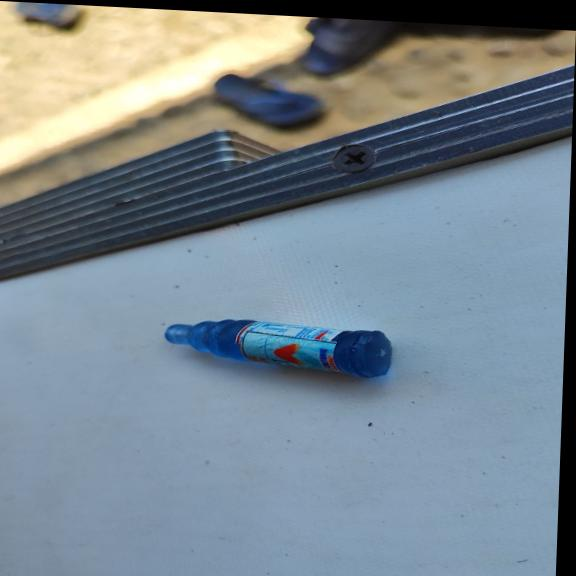Plastik: (164, 312, 398, 378)
